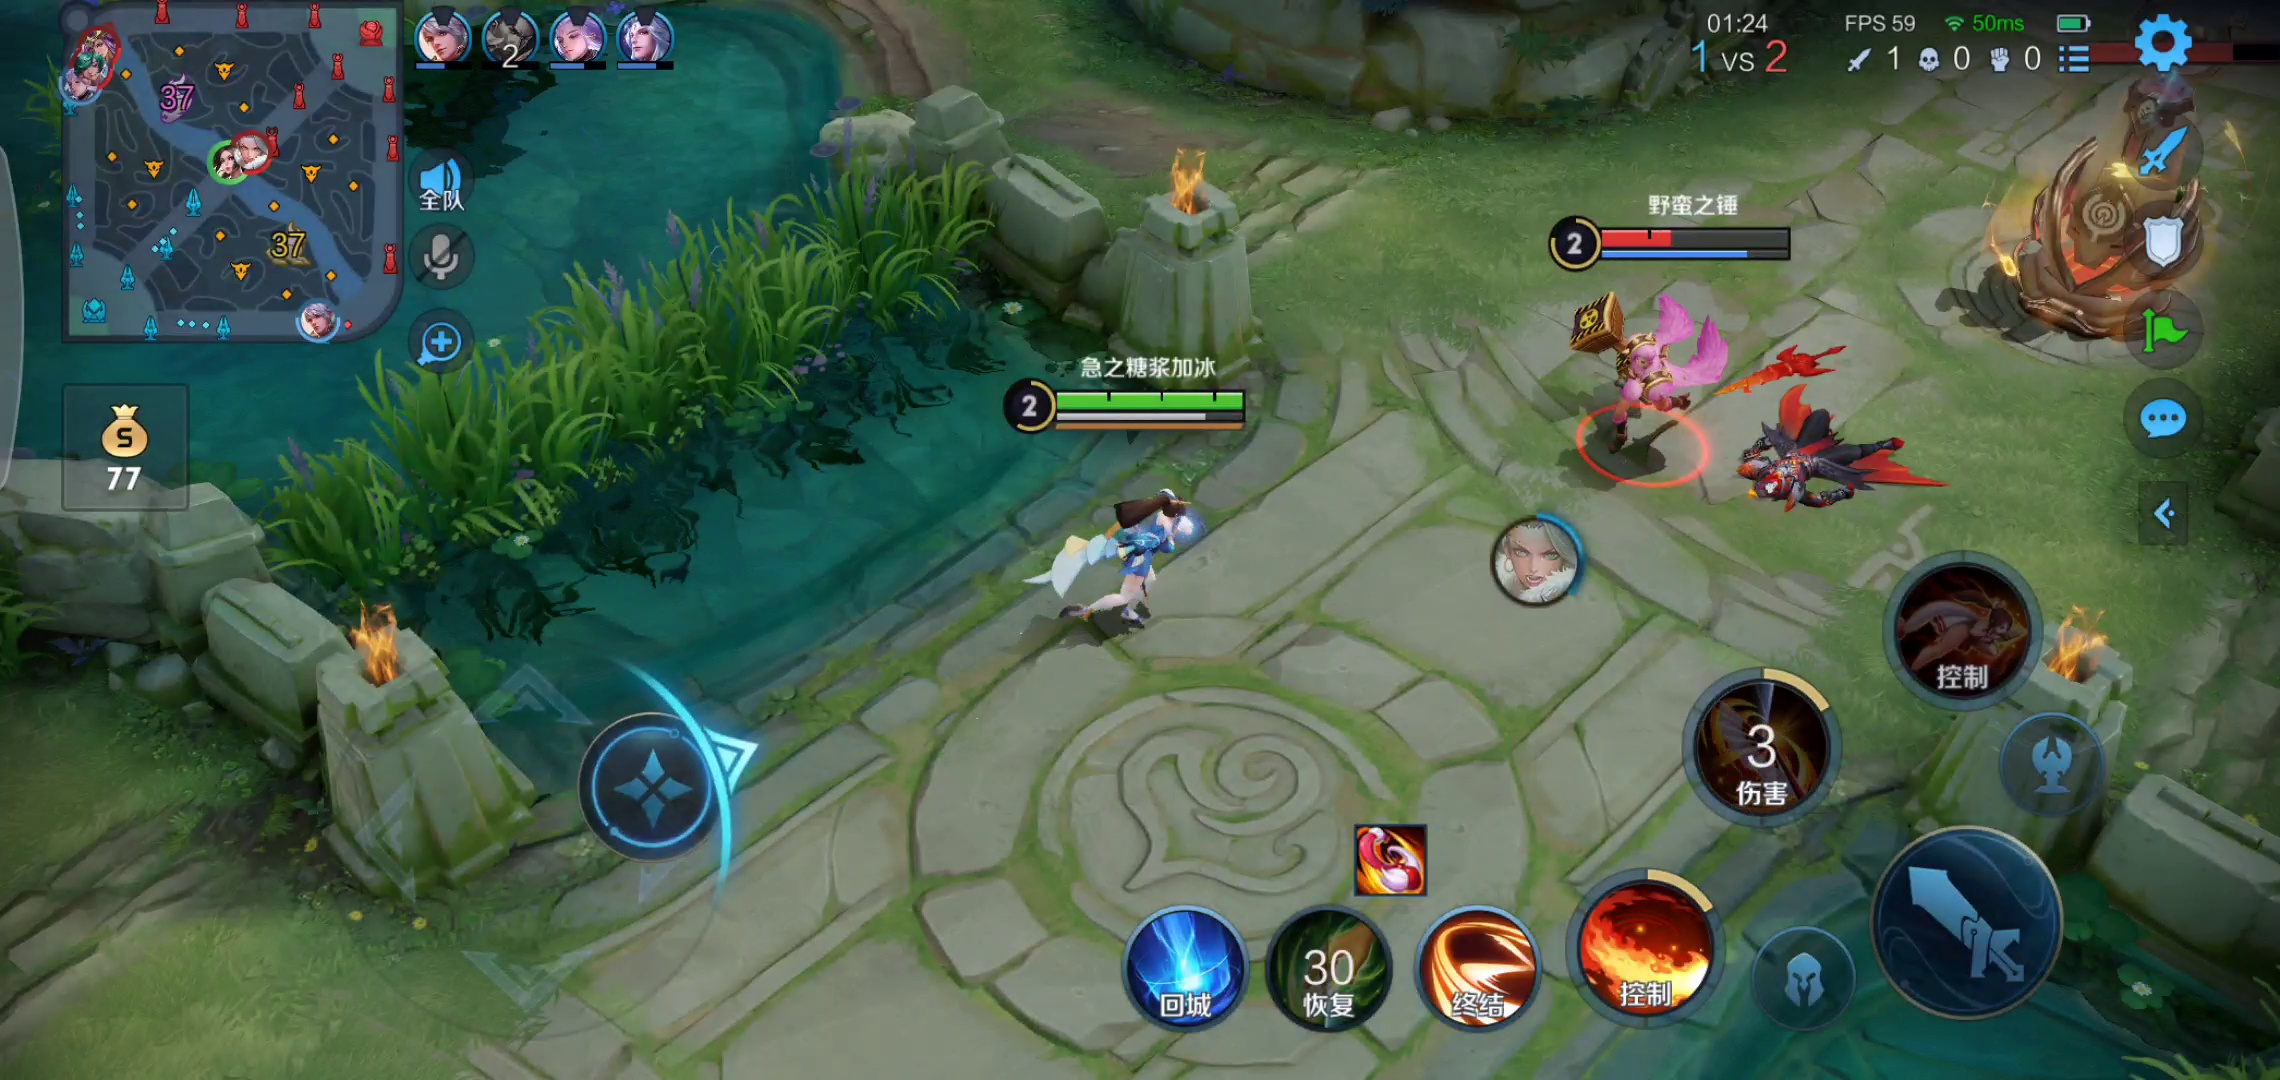grass: (241, 153, 1035, 586)
hero: (1730, 350, 1931, 533), (1573, 288, 1719, 477), (1021, 484, 1197, 637)
tower: (2007, 32, 2241, 343)
